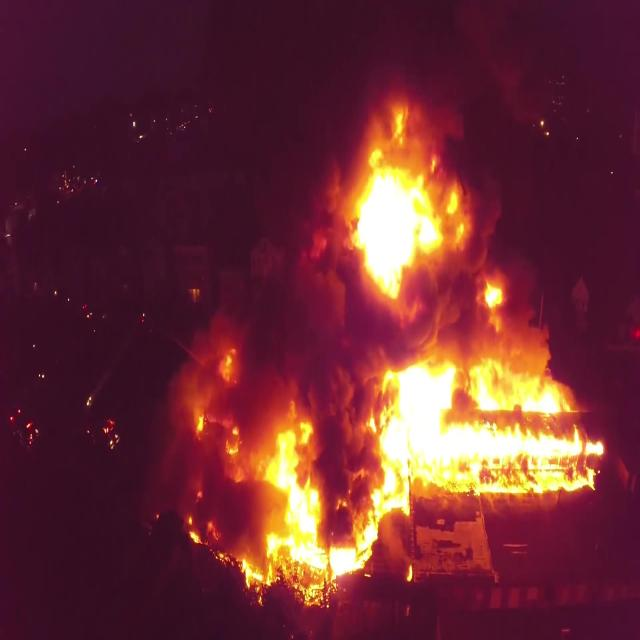Fire: (178, 118, 606, 599)
Smoke: (164, 5, 575, 559)
